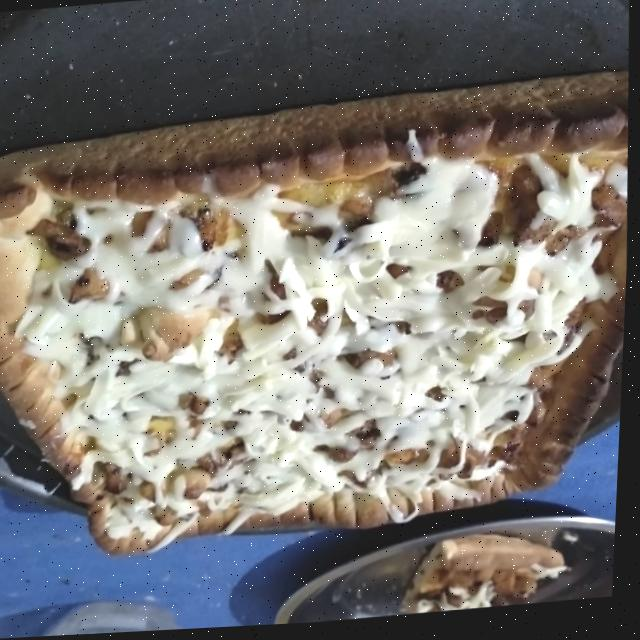mushrooms: (23, 207, 96, 269), (67, 263, 119, 305), (99, 454, 144, 502), (189, 203, 227, 257), (355, 420, 387, 450)
pizza: (0, 74, 637, 568), (401, 531, 577, 619)
